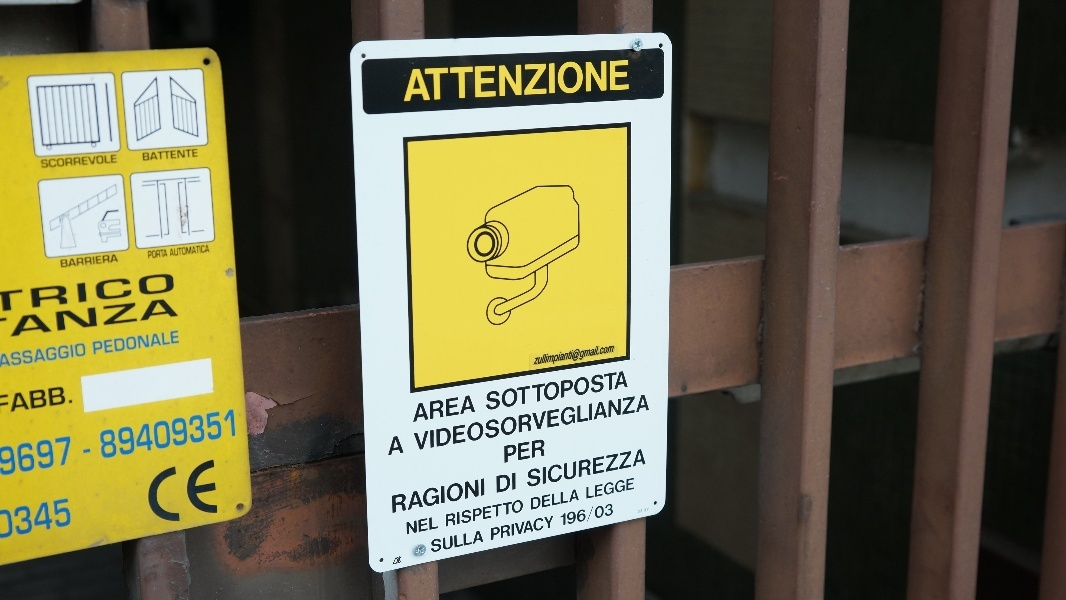text: (145, 455, 160, 536), (161, 455, 176, 536), (177, 455, 192, 536), (193, 455, 208, 536), (209, 455, 224, 536), (1, 407, 16, 478), (17, 407, 32, 478), (33, 407, 48, 478), (49, 407, 64, 478), (65, 407, 80, 478), (81, 407, 96, 478), (97, 407, 112, 478), (113, 407, 128, 478), (129, 407, 144, 478), (145, 407, 160, 478), (161, 407, 176, 478), (177, 407, 192, 478), (193, 407, 208, 478), (209, 407, 224, 478), (225, 407, 238, 478), (417, 394, 432, 451), (433, 394, 448, 451), (449, 394, 464, 451), (465, 394, 480, 451), (481, 394, 496, 451), (497, 394, 512, 451), (513, 394, 528, 451), (529, 394, 544, 451), (545, 394, 560, 451), (561, 394, 576, 451), (577, 394, 592, 451), (593, 394, 608, 451), (609, 394, 624, 451), (625, 394, 640, 451), (417, 59, 432, 103), (433, 59, 448, 103), (449, 59, 464, 103), (465, 59, 480, 103), (481, 59, 496, 103), (497, 59, 512, 103), (513, 59, 528, 103), (529, 59, 544, 103), (545, 59, 560, 103), (561, 59, 576, 103), (577, 59, 592, 103), (593, 59, 608, 103), (609, 59, 624, 103), (1, 497, 16, 540), (17, 497, 32, 540), (33, 497, 48, 540), (49, 497, 64, 540), (497, 370, 512, 412), (513, 370, 528, 412), (529, 370, 544, 412), (545, 370, 560, 412), (561, 370, 576, 412), (577, 370, 592, 412), (593, 370, 608, 412), (609, 370, 624, 412), (33, 298, 48, 339), (49, 298, 64, 339), (65, 298, 80, 339), (81, 298, 96, 339), (97, 298, 112, 339), (113, 298, 128, 339), (129, 298, 144, 339), (145, 298, 160, 339), (161, 298, 176, 339), (1, 272, 16, 313), (17, 272, 32, 313), (33, 272, 48, 313), (49, 272, 64, 313), (65, 272, 80, 313), (81, 272, 96, 313), (97, 272, 112, 313), (113, 272, 128, 313), (129, 272, 144, 313), (145, 272, 160, 313), (529, 448, 544, 489), (545, 448, 560, 489), (561, 448, 576, 489), (577, 448, 592, 489), (593, 448, 608, 489), (609, 448, 624, 489), (625, 448, 640, 489), (161, 272, 175, 313), (401, 478, 416, 515), (417, 478, 432, 515), (433, 478, 448, 515), (449, 478, 464, 515), (465, 478, 480, 515), (641, 394, 650, 451), (21, 298, 32, 339), (1, 386, 16, 415), (17, 386, 32, 415), (33, 386, 48, 415), (49, 386, 64, 415), (433, 395, 448, 424), (449, 395, 464, 424), (486, 370, 496, 412), (449, 500, 464, 528), (465, 500, 480, 528), (481, 500, 496, 528), (497, 500, 512, 528), (418, 395, 432, 424), (1, 342, 16, 368), (17, 342, 32, 368), (33, 342, 48, 368), (49, 342, 64, 368), (65, 342, 80, 368), (97, 330, 112, 356), (113, 330, 128, 356), (129, 330, 144, 356), (145, 330, 160, 356), (161, 330, 176, 356), (513, 439, 528, 465), (529, 439, 544, 465), (497, 515, 512, 541), (513, 515, 528, 541), (529, 515, 544, 541), (561, 502, 576, 528), (577, 502, 592, 528), (593, 502, 608, 528), (545, 343, 560, 368), (561, 343, 576, 368), (577, 343, 592, 368), (593, 343, 608, 368), (433, 530, 448, 554), (449, 530, 464, 554), (465, 530, 480, 554), (465, 395, 477, 424), (497, 471, 512, 494), (545, 489, 560, 511), (561, 489, 576, 511), (593, 478, 608, 500), (609, 478, 624, 500), (513, 500, 524, 528), (65, 497, 72, 540), (417, 516, 432, 536), (392, 478, 400, 515), (531, 489, 544, 511), (65, 386, 74, 415), (545, 515, 555, 541), (641, 448, 647, 489), (225, 455, 228, 536), (65, 253, 80, 269), (81, 253, 96, 269), (97, 253, 112, 269), (503, 439, 512, 465), (412, 394, 416, 451), (625, 59, 630, 103), (405, 516, 416, 536), (625, 478, 635, 500), (177, 244, 192, 258), (193, 244, 208, 258), (49, 154, 64, 168), (65, 154, 80, 168), (81, 154, 96, 168), (97, 154, 112, 168), (145, 148, 160, 162), (161, 148, 176, 162), (177, 148, 192, 162), (481, 478, 486, 515), (412, 59, 416, 103), (537, 343, 544, 368), (609, 343, 616, 368), (625, 370, 629, 412), (142, 455, 144, 536), (81, 342, 87, 368), (490, 515, 496, 541), (147, 249, 160, 260), (433, 516, 440, 536), (586, 478, 592, 500), (91, 330, 96, 356), (609, 502, 614, 528), (113, 253, 121, 269), (177, 298, 180, 339), (40, 154, 48, 168), (481, 530, 485, 554), (513, 471, 517, 494), (161, 249, 169, 260), (170, 244, 176, 258), (445, 500, 448, 528), (59, 253, 64, 269), (177, 330, 180, 356), (1, 317, 16, 322), (193, 148, 198, 162), (577, 489, 580, 511), (113, 154, 117, 168), (645, 508, 656, 512), (527, 448, 528, 489), (209, 244, 211, 258), (142, 148, 144, 162), (545, 439, 546, 465), (431, 530, 432, 554), (495, 471, 496, 494), (638, 509, 640, 514), (641, 509, 643, 514)
